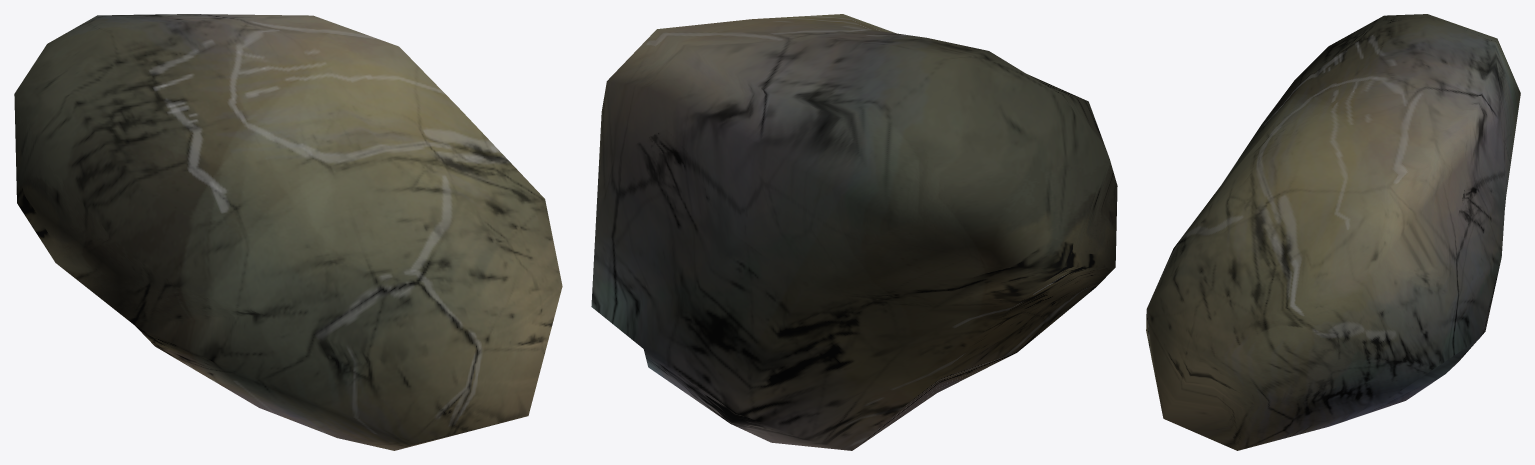
File: Rock_01A.fbx
The picture shows the model from 3 angles, left to right: view 1: azimuth 30°, elevation 25°; view 2: azimuth 150°, elevation 25°; view 3: azimuth 270°, elevation 25°; orthographic projection. The views are drawn at different scales.
Parts seen in each view (by area): view 1: Rock01:Mesh; view 2: Rock01:Mesh; view 3: Rock01:Mesh.
Boxes of the visible parts, bbox=[...] form: Rock01:Mesh: bbox=[14, 14, 562, 450]; Rock01:Mesh: bbox=[591, 14, 1117, 450]; Rock01:Mesh: bbox=[1146, 14, 1520, 450].
Size of the model in its own units: 8.55 by 7.25 by 7.36.
